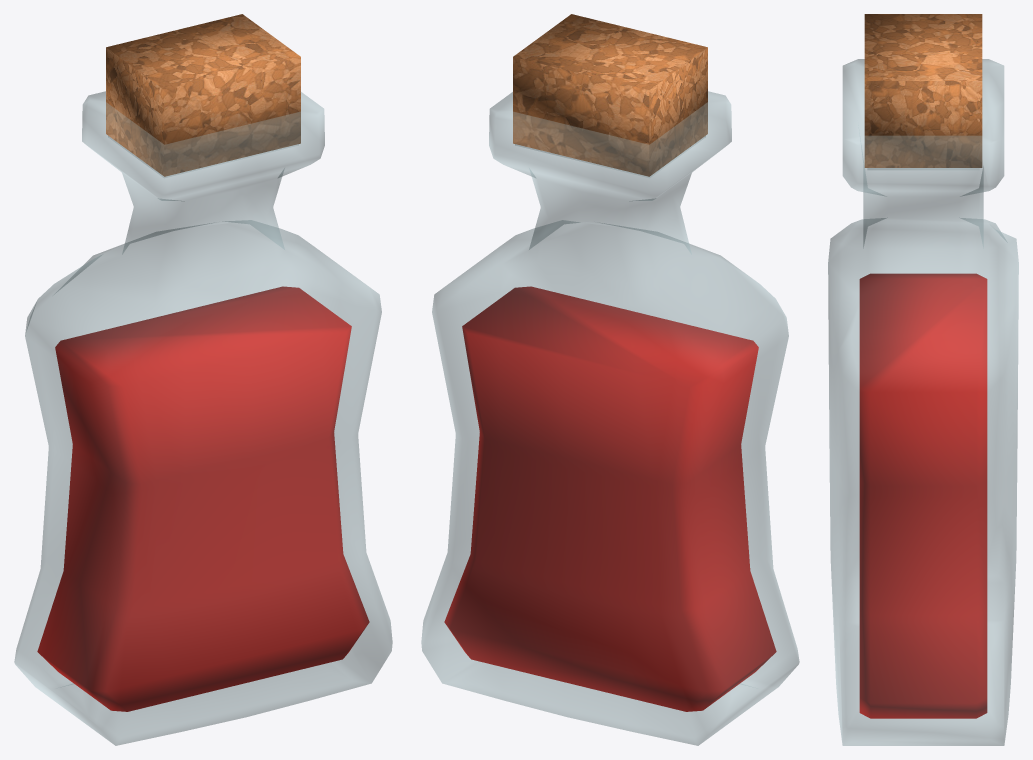
The model's file is basic_bottle.fbx.
The picture shows the model from 3 angles, left to right: view 1: azimuth 30°, elevation 25°; view 2: azimuth 150°, elevation 25°; view 3: azimuth 270°, elevation 25°; orthographic projection.
Visible parts, largest first — view 1: Bottle Basic, Liquid, Cork Basic; view 2: Bottle Basic, Liquid, Cork Basic; view 3: Bottle Basic, Liquid, Cork Basic.
Boxes of the visible parts, x1,y1,x2,y2 form: Bottle Basic: (14, 91, 392, 745); Liquid: (37, 286, 369, 711); Cork Basic: (106, 14, 300, 176); Bottle Basic: (421, 91, 799, 745); Liquid: (444, 286, 776, 711); Cork Basic: (513, 14, 707, 176); Bottle Basic: (828, 59, 1018, 745); Liquid: (859, 273, 987, 718); Cork Basic: (864, 14, 982, 167).
Size of the model in its own units: 15.77 by 30.8 by 8.38.
